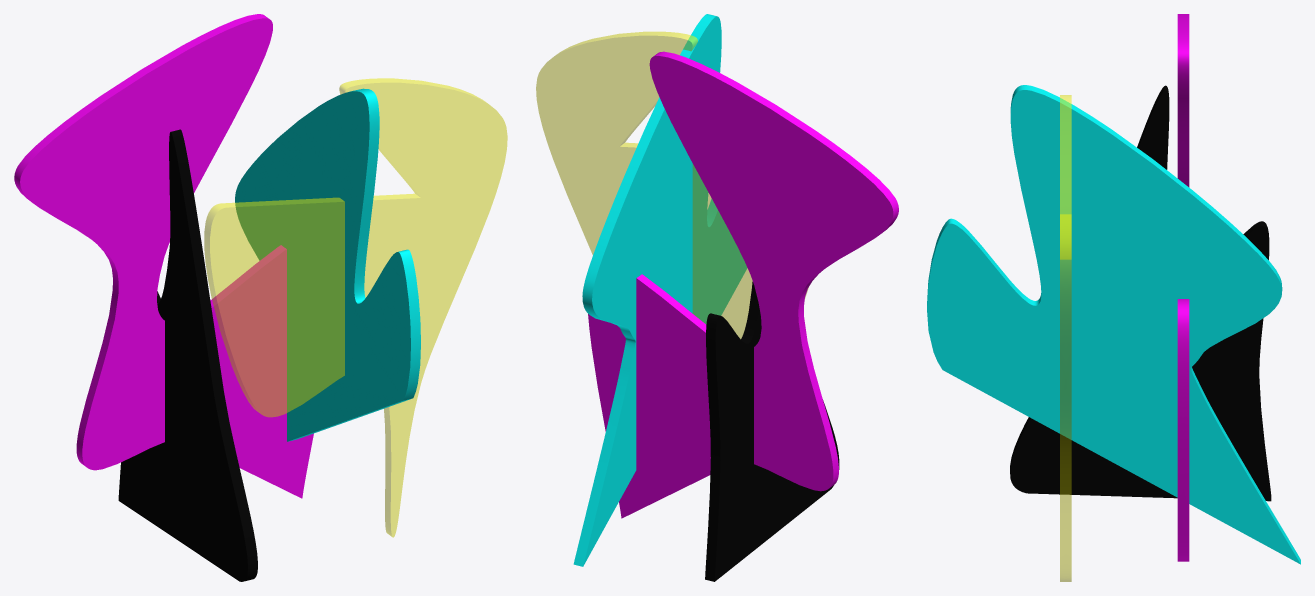
3 renders of one model, left to right at view 1: azimuth 30°, elevation 25°; view 2: azimuth 150°, elevation 25°; view 3: azimuth 270°, elevation 25°, orthographic. The views are drawn at different scales.
Visible parts, largest first — view 1: Body16, Body25, Body24, Body17; view 2: Body16, Body24, Body25, Body17; view 3: Body24, Body17, Body25, Body16.
Part boxes in pixels (left/top/right/bottom): Body16: left=14, top=14, right=313, bottom=498; Body25: left=204, top=78, right=507, bottom=537; Body24: left=235, top=88, right=420, bottom=441; Body17: left=118, top=129, right=257, bottom=581; Body16: left=588, top=51, right=898, bottom=518; Body24: left=573, top=14, right=747, bottom=566; Body25: left=536, top=31, right=808, bottom=338; Body17: left=705, top=281, right=839, bottom=581; Body24: left=927, top=85, right=1300, bottom=564; Body17: left=1010, top=85, right=1271, bottom=501; Body25: left=1060, top=95, right=1071, bottom=581; Body16: left=1177, top=14, right=1189, bottom=561.
Bounding box in the file's own units: 0.8566 × 0.9466 × 0.6405.
4 materials, 1 textured.
